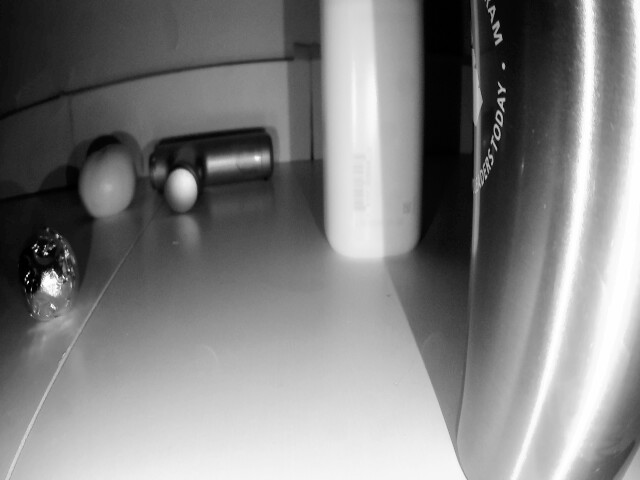silver: (24, 231, 82, 317)
